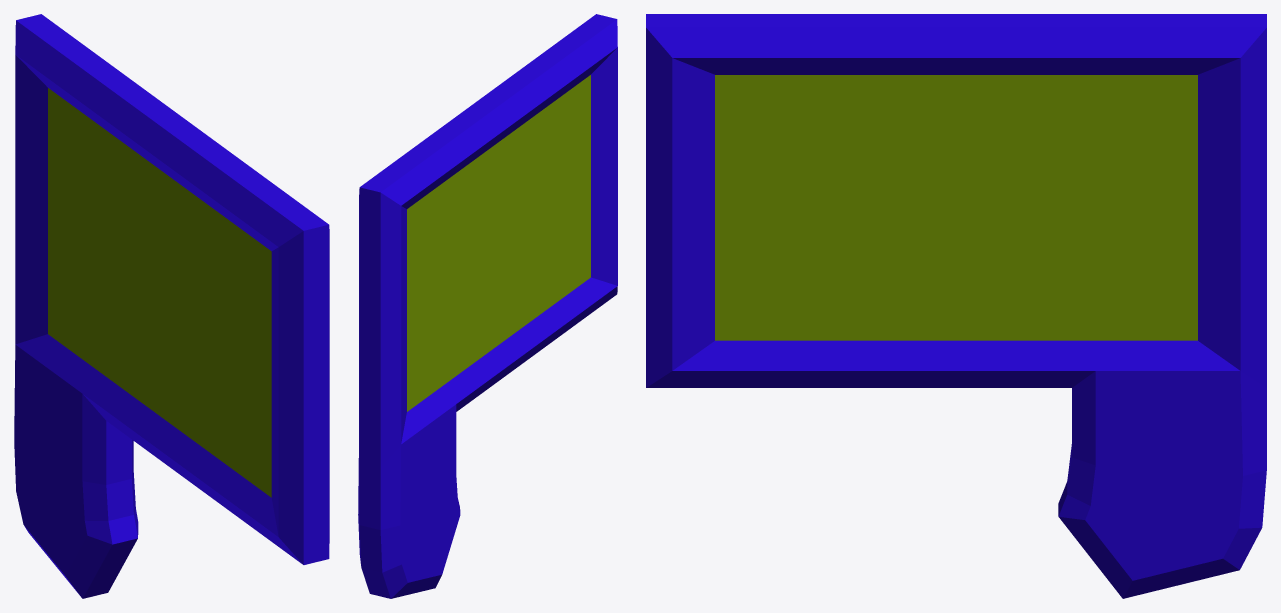
The model's file is Sign_V2_MES.FBX.
3 views of the same model, side by side, from view 1: azimuth 30°, elevation 25°; view 2: azimuth 150°, elevation 25°; view 3: azimuth 270°, elevation 25° (orthographic). The views are drawn at different scales.
Parts seen in each view (by area): view 1: SignWithArrowLeft, SignSign; view 2: SignWithArrowLeft, SignSign; view 3: SignWithArrowLeft, SignSign2.
Part boxes in pixels (box(x1,y1,x2,y2)): SignWithArrowLeft: box(14, 14, 329, 598); SignSign: box(48, 88, 271, 497); SignWithArrowLeft: box(358, 14, 617, 598); SignSign: box(407, 75, 590, 411); SignWithArrowLeft: box(646, 14, 1266, 598); SignSign2: box(715, 75, 1197, 340).
Size of the model in its own units: 20 by 198 by 195.
